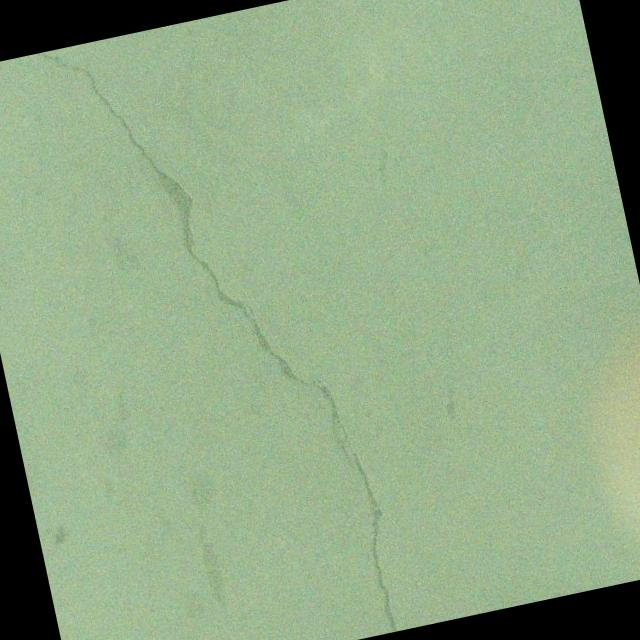crack: (34, 2, 407, 640), (172, 20, 216, 136)
